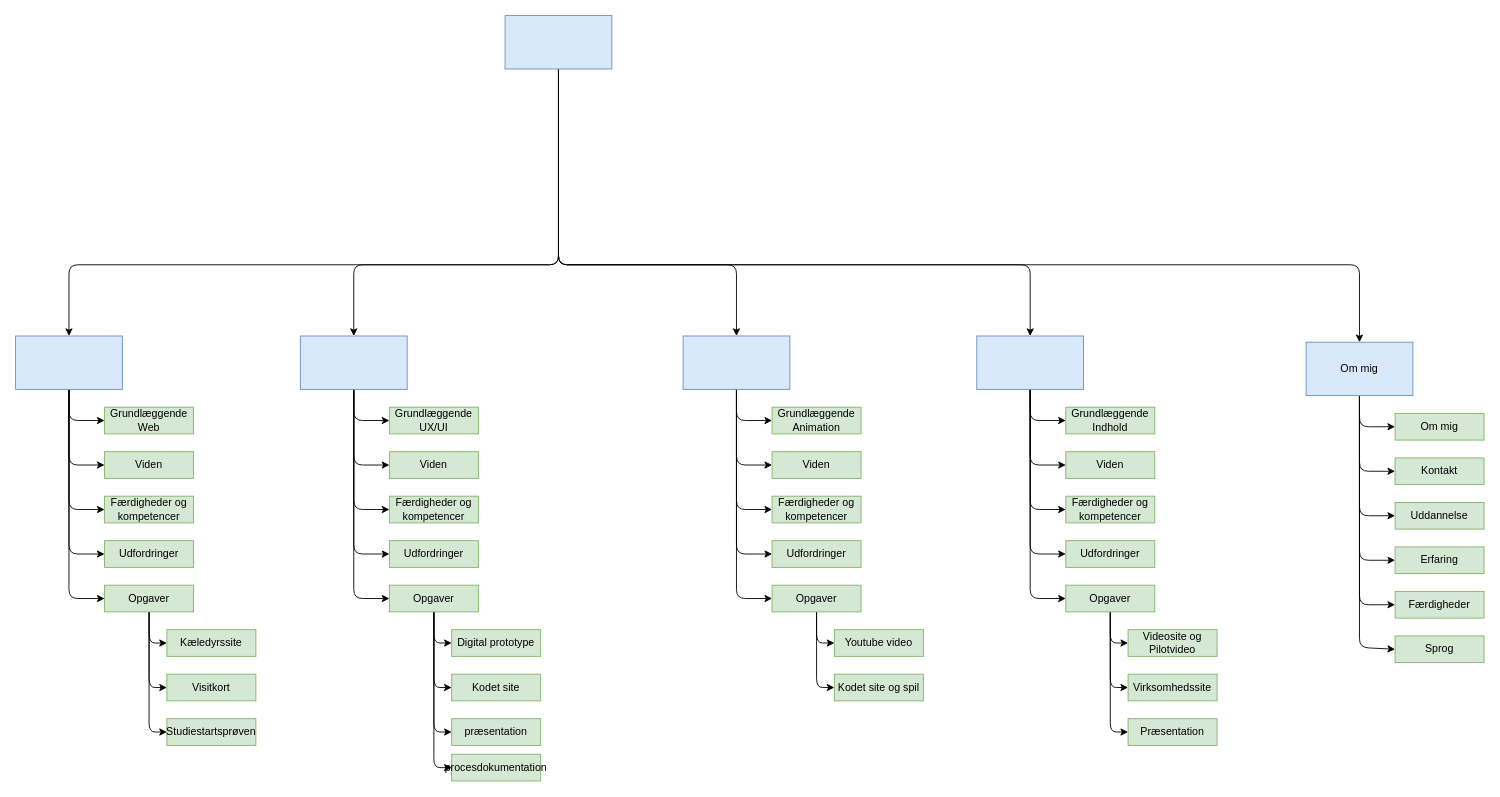
Image size: 1500x797. Some labels were removed from this diagram. Here are the shapes that lost their labels. From the top down, the box of each, then its label:
(504, 15, 612, 69): Forside
(15, 335, 122, 389): Tema 2
(299, 335, 407, 389): Tema 3
(682, 335, 790, 389): Tema 4
(976, 335, 1084, 389): Tema 5
